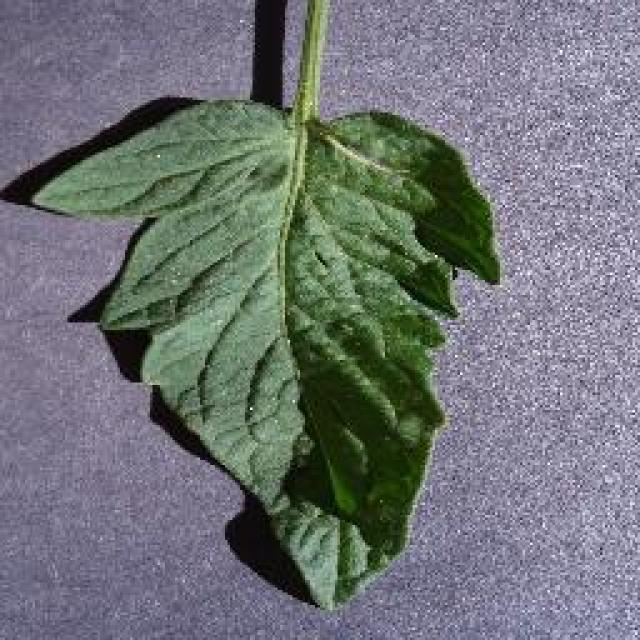Tomato___healthy: (25, 0, 506, 618)
